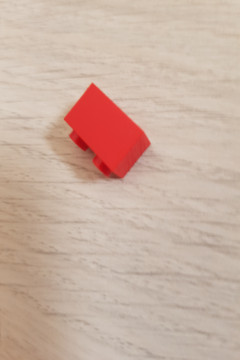1x2 red: (62, 82, 153, 180)
